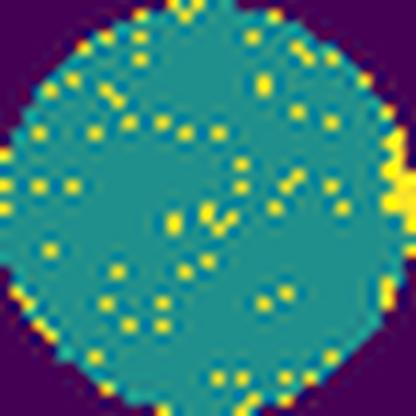Edge-Loc: (380, 125, 416, 238)
